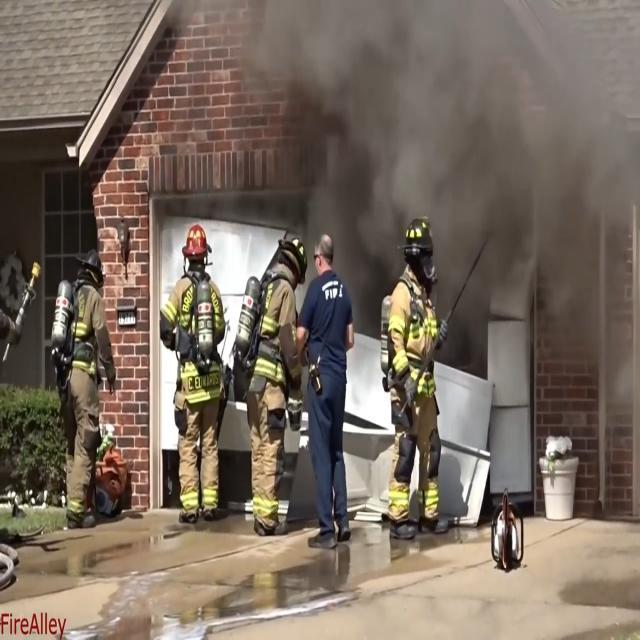Smoke: (313, 9, 612, 207)
